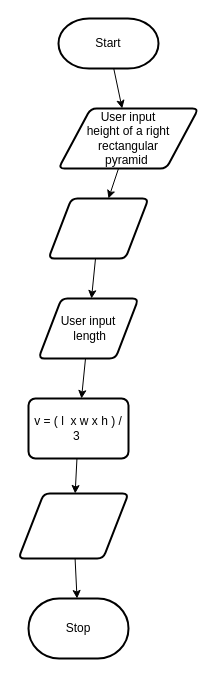
The diagram is 216 pixels wide and 676 high, and some of its shapes have lost their labels. The shapes that lost their labels are listed below. From the top down, each one's centre as x and y in pixels, then its label:
the point at 98,228: User input width
the point at 73,525: show Volume
